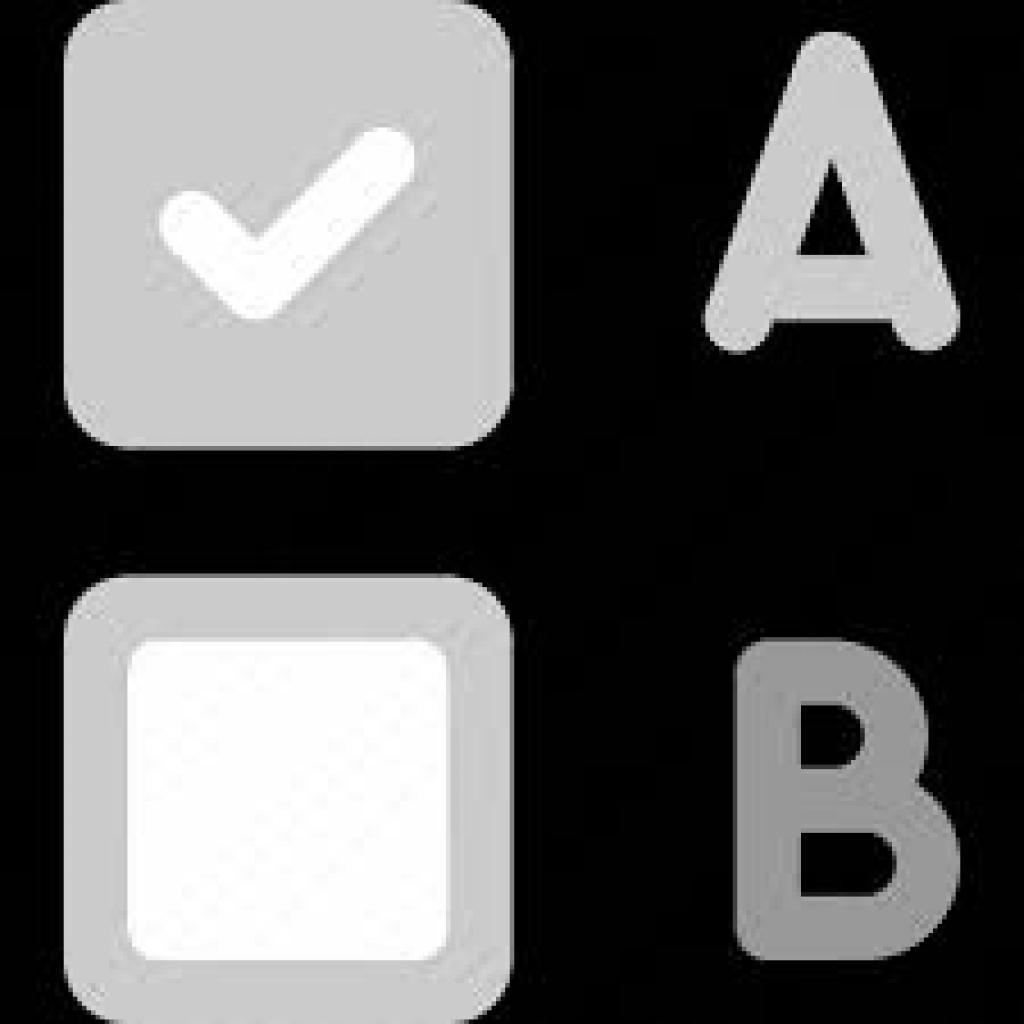checkbox: (64, 1, 515, 461), (62, 577, 516, 1024)
